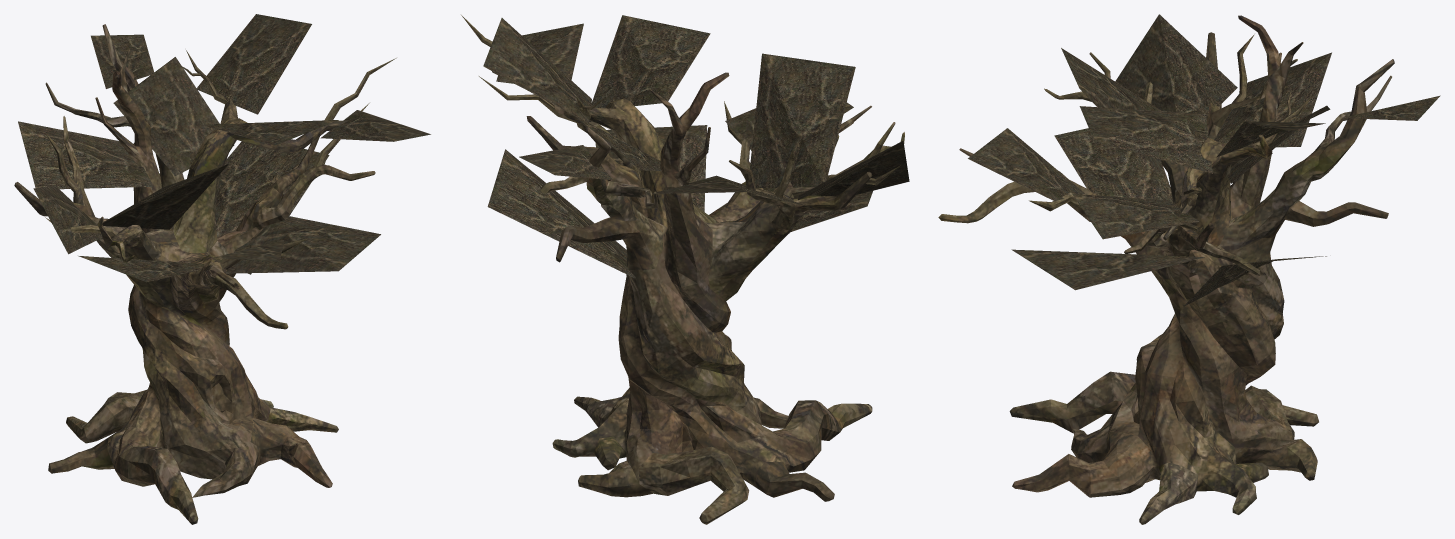
Rendered from bg_anh_tree_te_t43_sm_old.FBX.
The picture shows the model from 3 angles, left to right: view 1: azimuth 30°, elevation 25°; view 2: azimuth 150°, elevation 25°; view 3: azimuth 270°, elevation 25°; orthographic projection. The views are drawn at different scales.
Parts seen in each view (by area): view 1: bg_anh_tree_te_t43_sm_old; view 2: bg_anh_tree_te_t43_sm_old; view 3: bg_anh_tree_te_t43_sm_old.
Boxes of the visible parts, box(x1,y1,x2,y2) form: bg_anh_tree_te_t43_sm_old: box(14, 14, 430, 524); bg_anh_tree_te_t43_sm_old: box(461, 15, 909, 524); bg_anh_tree_te_t43_sm_old: box(938, 14, 1440, 524).
Size of the model in its own units: 679 by 653 by 696.
